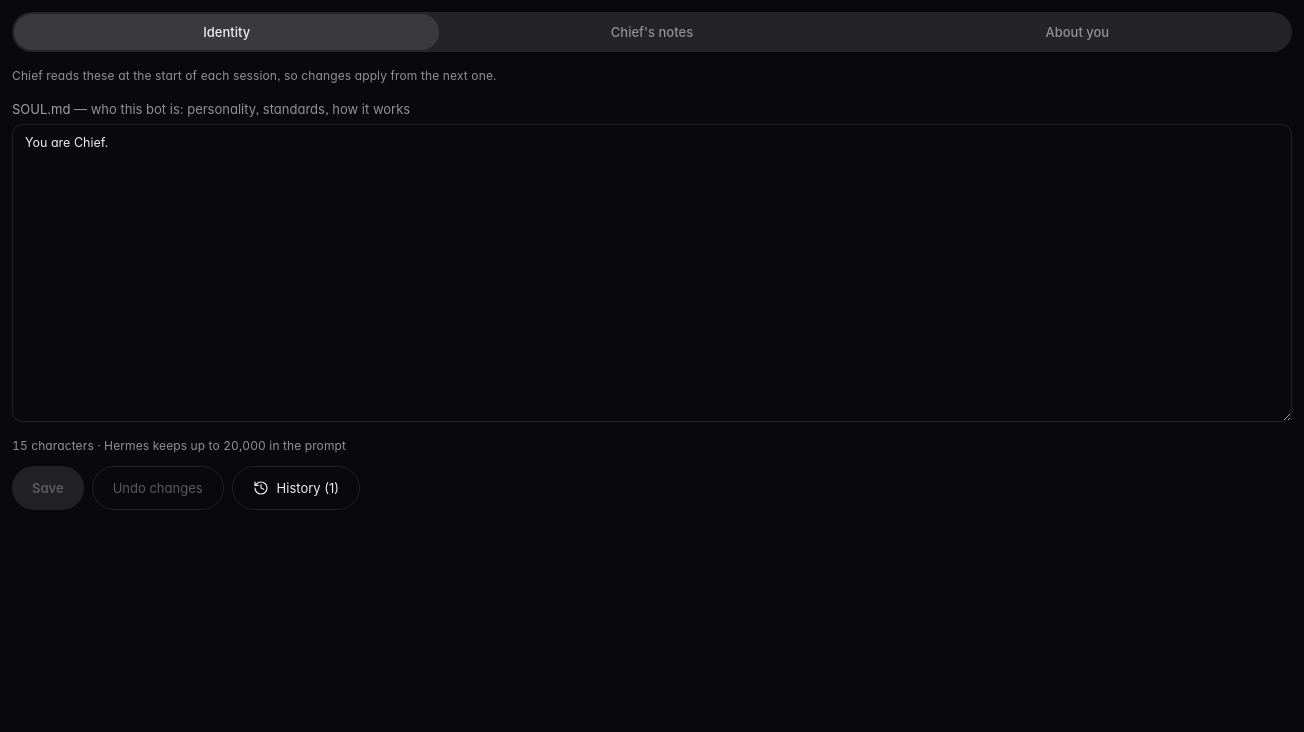
Test case: lists SOUL history and loads an older version into the editor
The image size is (1304, 732).
Click the button "History (1)" at (296, 488), box top-left (232, 466), bottom-right (360, 510)
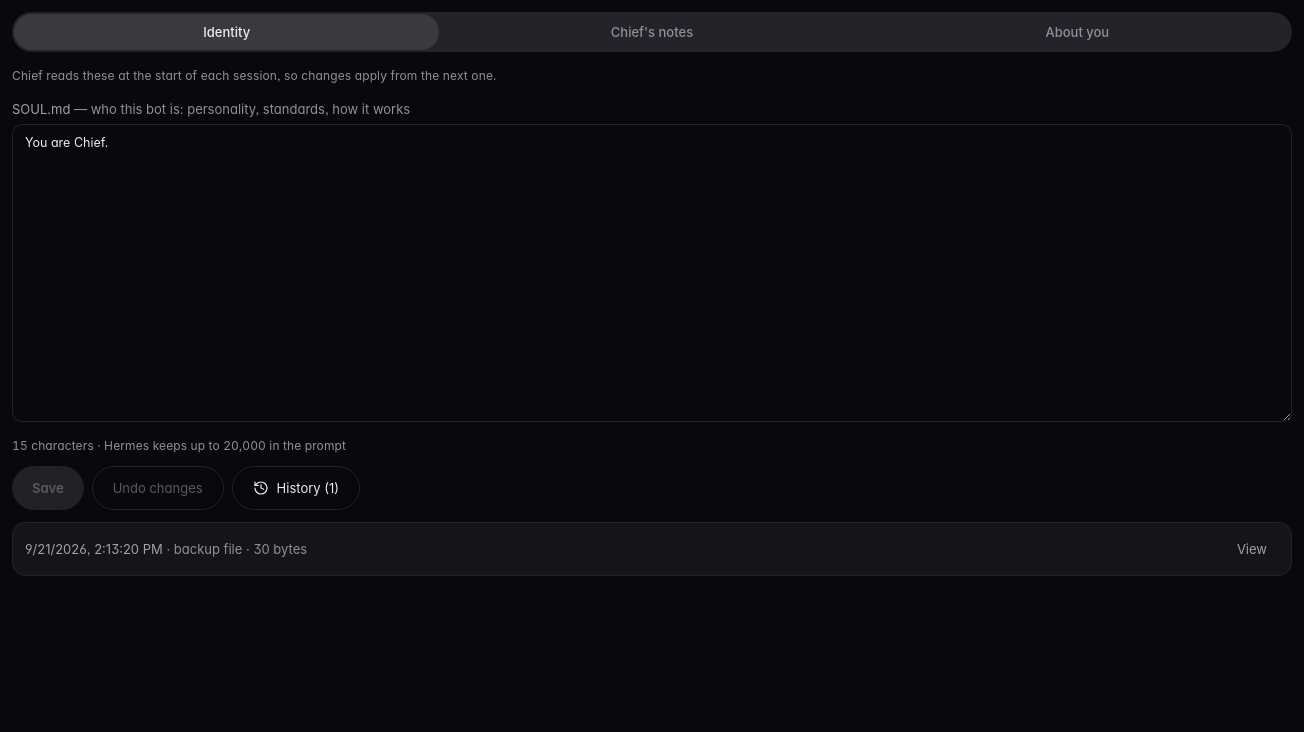
Click the button "View" at (1252, 549), box top-left (1225, 531), bottom-right (1279, 567)
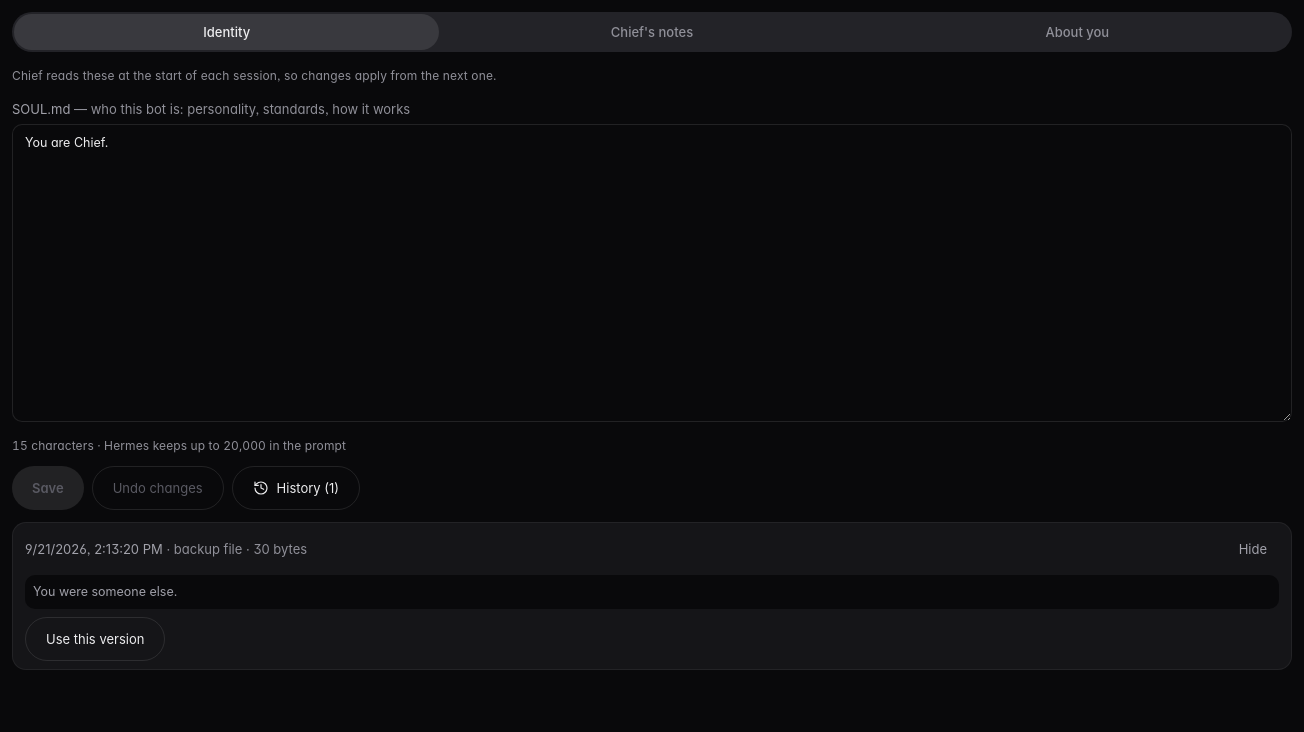
Click the button "Use this version" at (95, 639), box top-left (25, 617), bottom-right (165, 661)
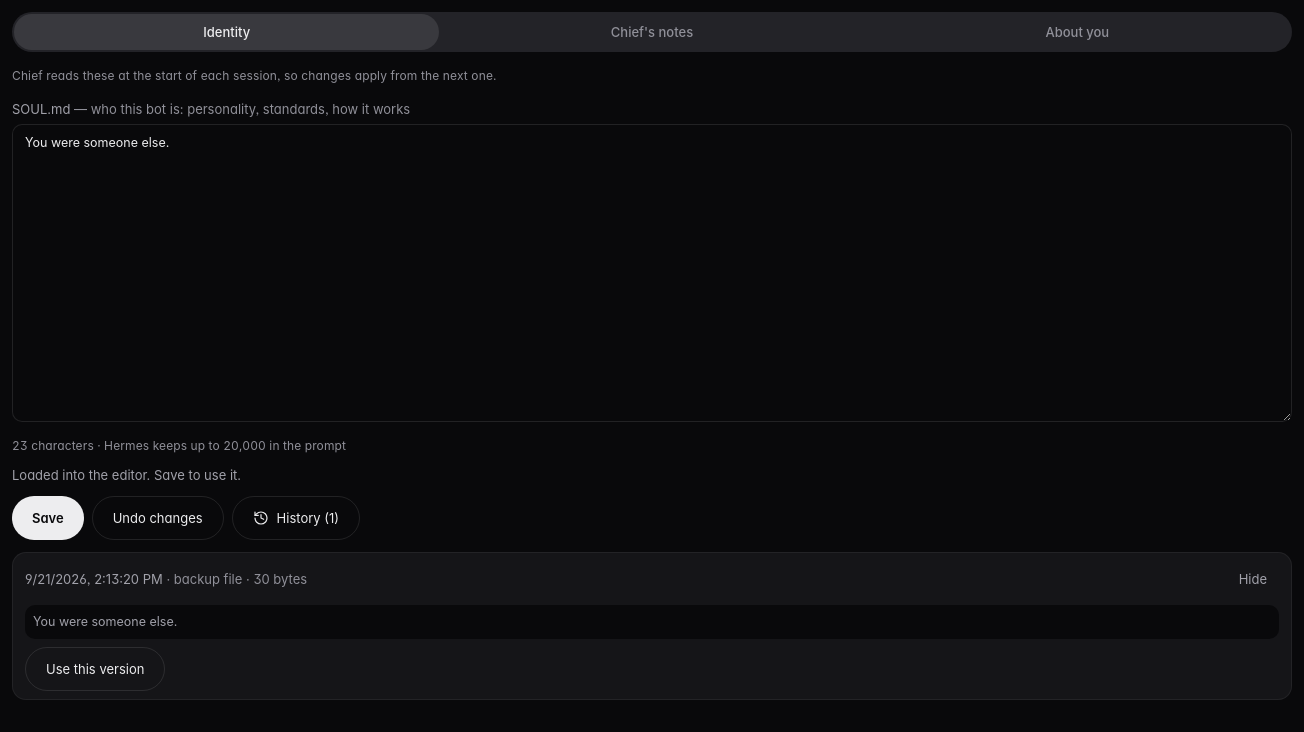
Check: the text "Loaded into the editor. Save to use it." is shown, box top-left (12, 467), bottom-right (241, 483)
